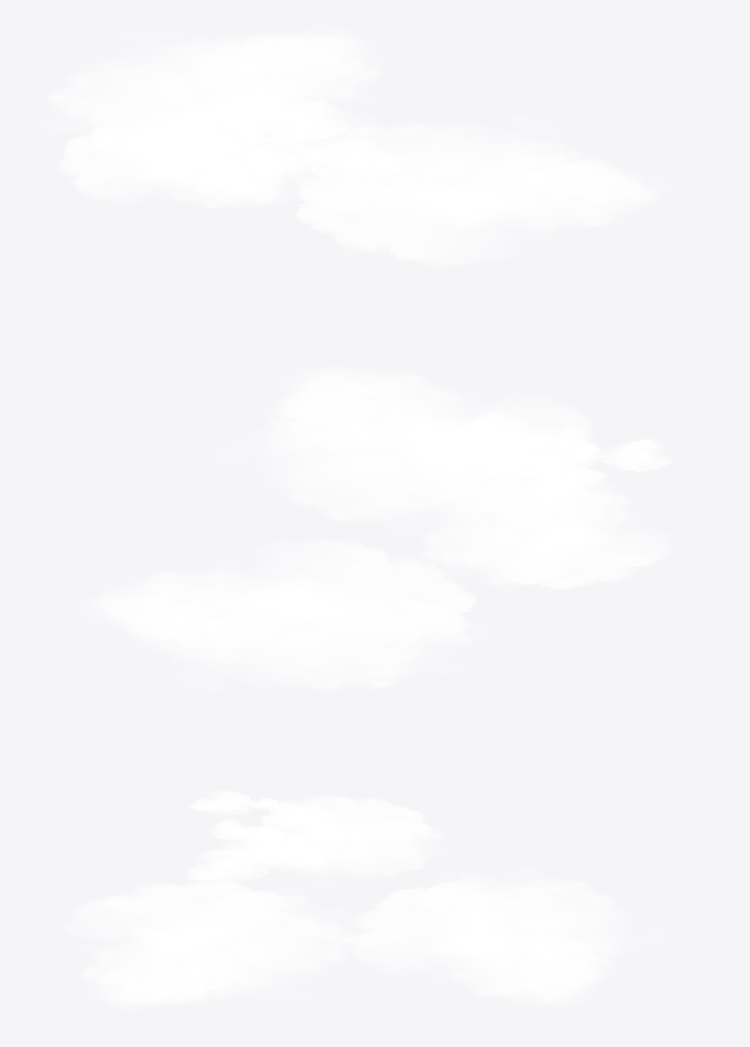
Rendered from cloud.glb.
3 views of the same model, one above another, from view 1: azimuth 30°, elevation 25°; view 2: azimuth 150°, elevation 25°; view 3: azimuth 270°, elevation 25° (orthographic). The views are drawn at different scales.
Visible parts, largest first — view 1: clouds; view 2: clouds; view 3: clouds.
Boxes of the visible parts, box(x1,y1,x2,y2) form: clouds: box(46, 29, 664, 266); clouds: box(84, 367, 673, 691); clouds: box(64, 790, 659, 1009).
Size of the model in its own units: 333 by 49.56 by 428.
1 material, 1 textured.
